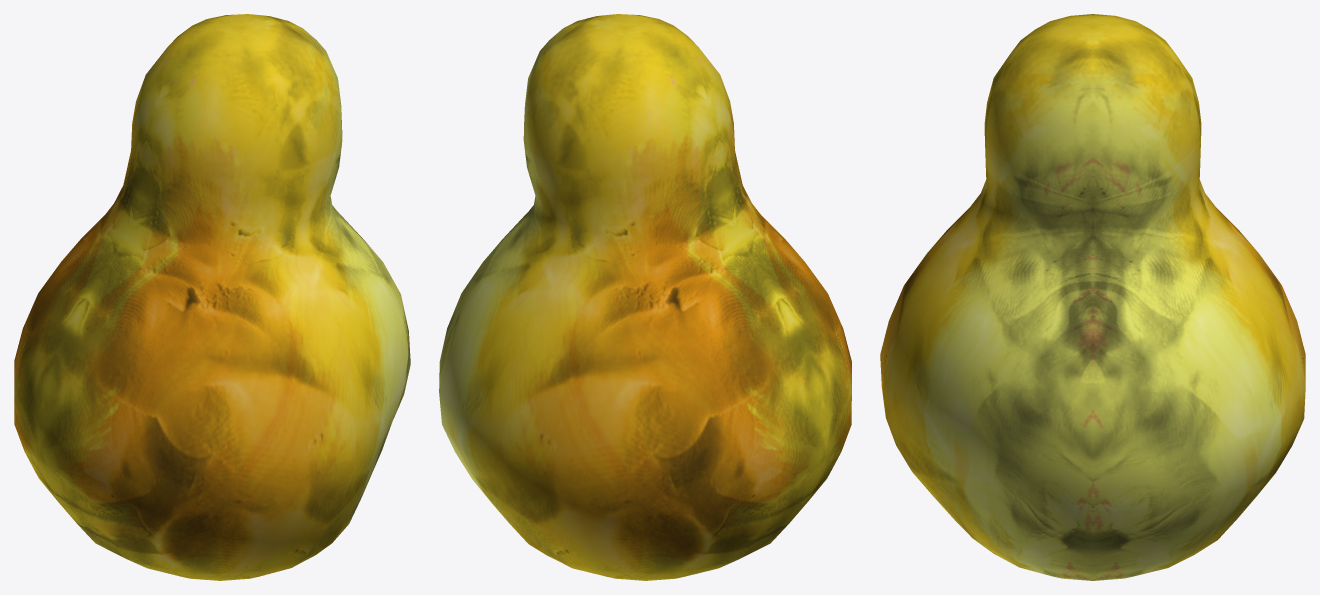
Rendered from mPoire3.FBX.
The picture shows the model from 3 angles, left to right: view 1: azimuth 30°, elevation 25°; view 2: azimuth 150°, elevation 25°; view 3: azimuth 270°, elevation 25°; orthographic projection. The views are drawn at different scales.
Visible parts, largest first — view 1: Poire_Positif_01; view 2: Poire_Positif_01; view 3: Poire_Positif_01.
Boxes of the visible parts, x1,y1,x2,y2 form: Poire_Positif_01: (14, 14, 410, 580); Poire_Positif_01: (439, 14, 851, 580); Poire_Positif_01: (880, 14, 1305, 580).
Size of the model in its own units: 1.48 by 2.08 by 1.48.
